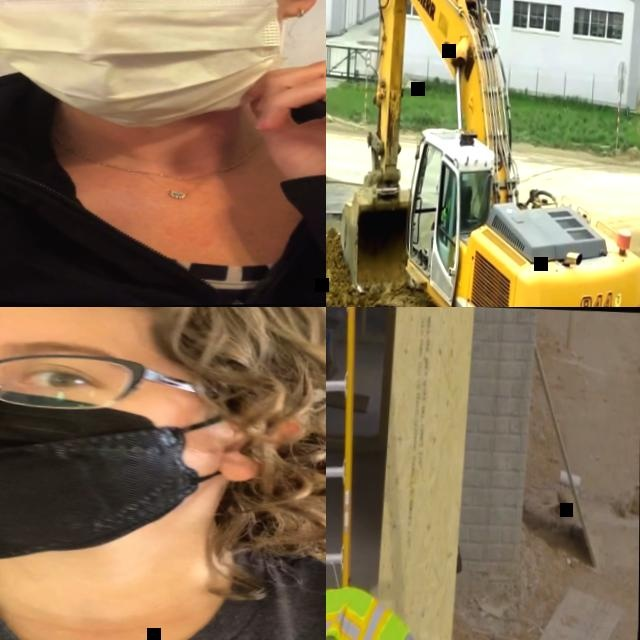Mask: (0, 375, 251, 574), (0, 0, 293, 123)
NO-Hardhat: (0, 307, 326, 348)
NO-Safety Vest: (0, 107, 326, 307), (0, 525, 326, 640)
Person: (0, 307, 326, 640), (0, 0, 326, 307), (440, 184, 459, 243)
Safety Vest: (326, 584, 411, 640), (443, 199, 451, 220)
machinery: (328, 0, 640, 307)
